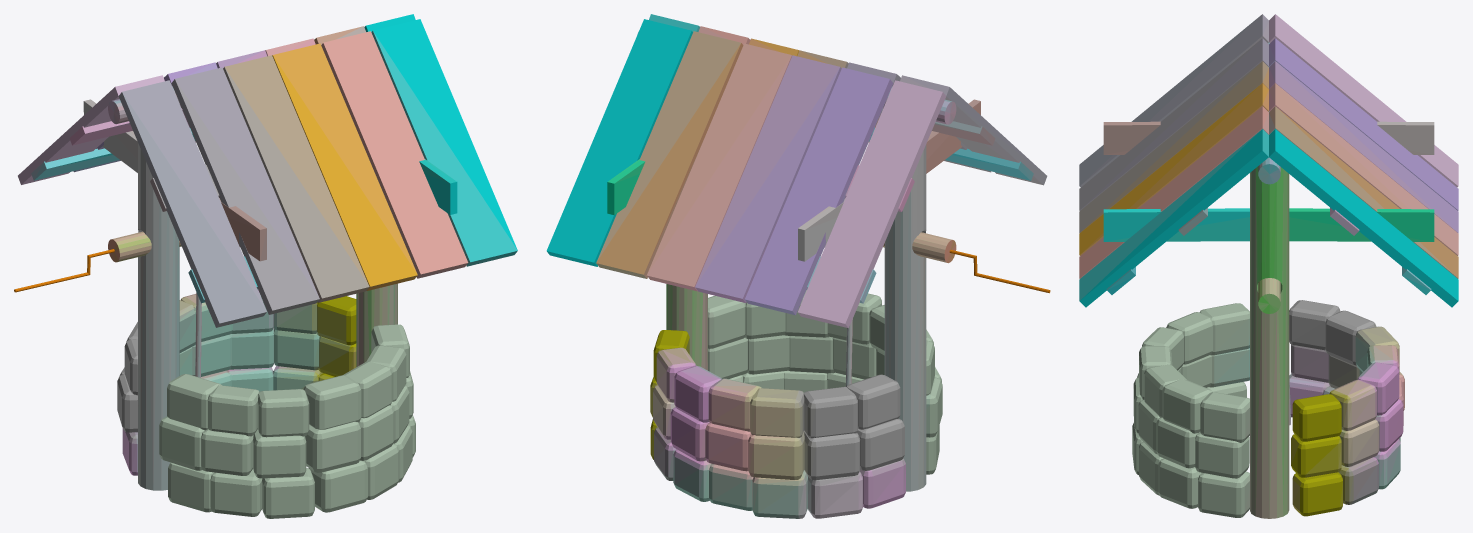
The picture shows the model from 3 angles, left to right: view 1: azimuth 30°, elevation 25°; view 2: azimuth 150°, elevation 25°; view 3: azimuth 270°, elevation 25°; orthographic projection. The views are drawn at different scales.
Parts seen in each view (by area): view 1: world; view 2: world; view 3: world.
Boxes of the visible parts, x1,y1,x2,y2 form: world: [14, 14, 517, 518]; world: [546, 14, 1050, 518]; world: [1079, 14, 1458, 518].
Bounding box in the file's own units: 1 × 0.9574 × 0.8589.
